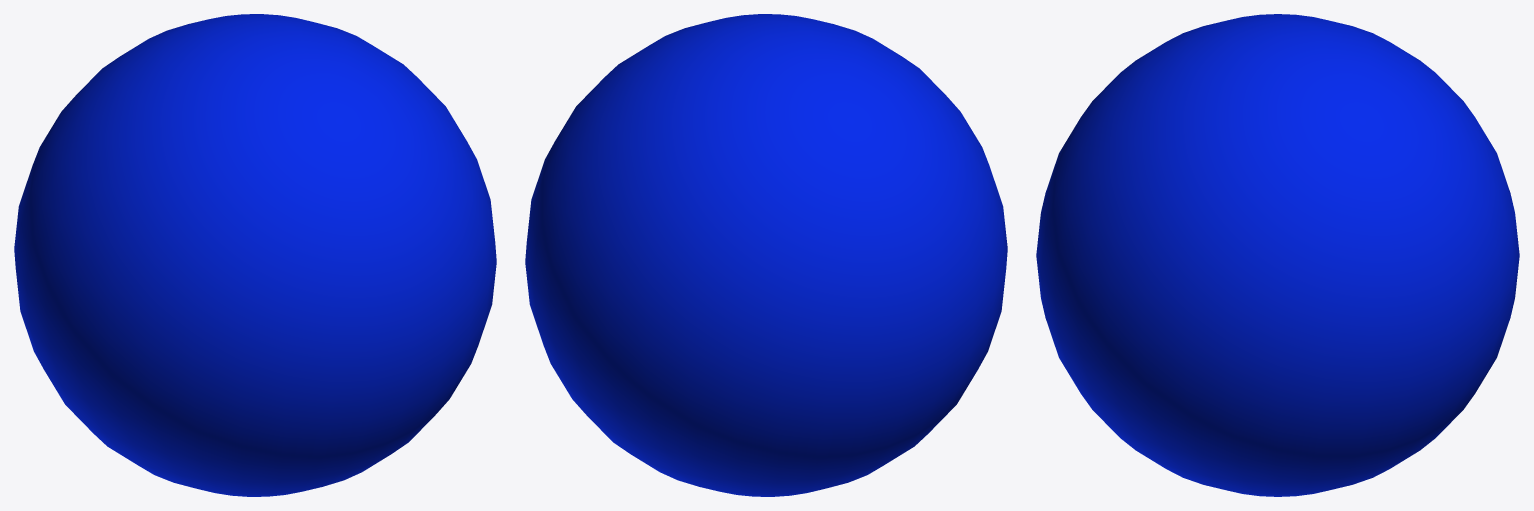
File: Orbe_Triangle.fbx
3 renders of one model, left to right at view 1: azimuth 30°, elevation 25°; view 2: azimuth 150°, elevation 25°; view 3: azimuth 270°, elevation 25°, orthographic.
Visible parts, largest first — view 1: Orbe_Triangle; view 2: Orbe_Triangle; view 3: Orbe_Triangle.
Part boxes in pixels (x1,y1,x2,y2): Orbe_Triangle: [14, 14, 496, 496]; Orbe_Triangle: [525, 14, 1007, 496]; Orbe_Triangle: [1036, 14, 1519, 496].
Bounding box in the file's own units: 200 × 200 × 200.
